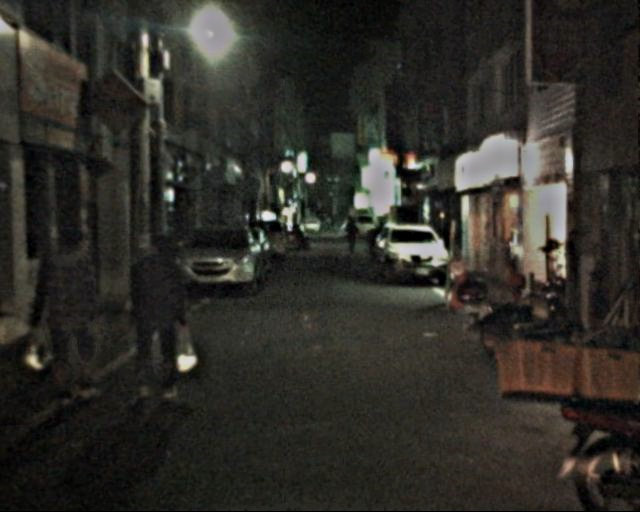person: (39, 220, 111, 401), (118, 233, 193, 404), (342, 218, 360, 255)
